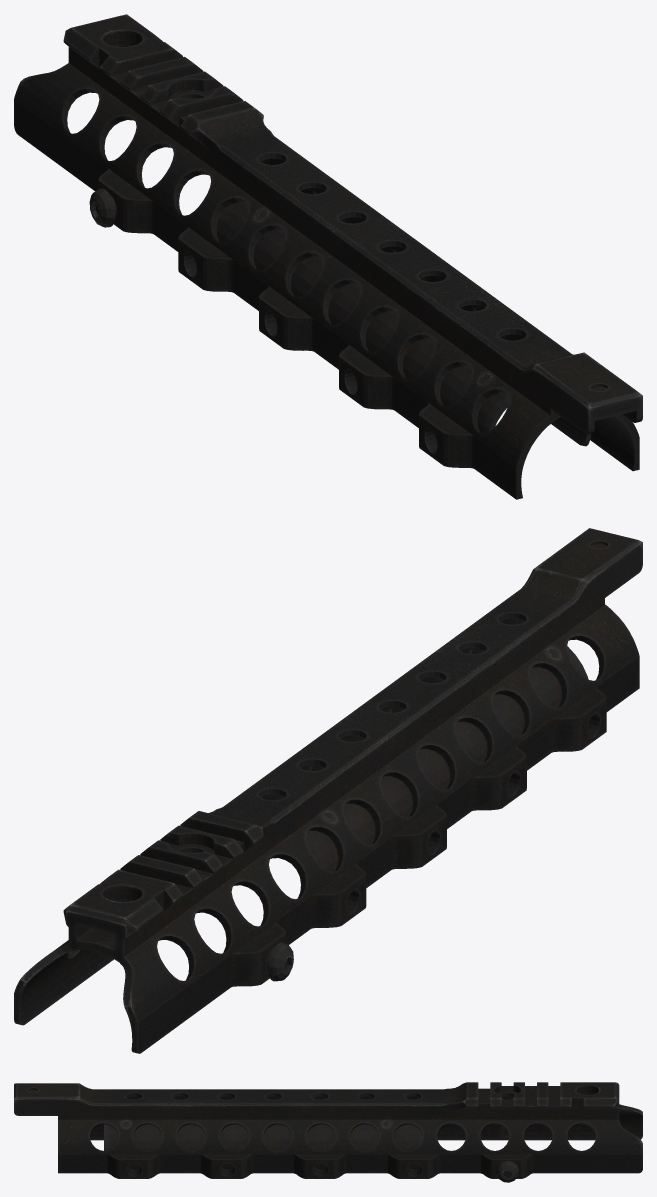
3 renders of one model, top to bottom at view 1: azimuth 30°, elevation 25°; view 2: azimuth 150°, elevation 25°; view 3: azimuth 270°, elevation 25°, orthographic. The views are drawn at different scales.
Visible parts, largest first — view 1: TW_637f57c532b66e7e320a6676_PZ_Import; view 2: TW_637f57c532b66e7e320a6676_PZ_Import; view 3: TW_637f57c532b66e7e320a6676_PZ_Import.
Part boxes in pixels (x1,y1,x2,y2): TW_637f57c532b66e7e320a6676_PZ_Import: (14,14,642,499); TW_637f57c532b66e7e320a6676_PZ_Import: (14,528,642,1053); TW_637f57c532b66e7e320a6676_PZ_Import: (14,1082,642,1182).
Bounding box in the file's own units: 0.0323 × 0.1562 × 0.0188.
Materials: 1 (1 with a texture image).
